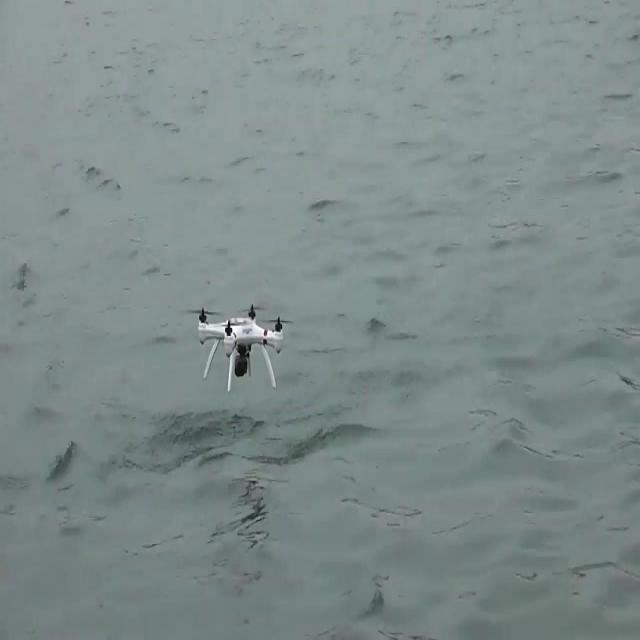UAV: (198, 303, 284, 392)
